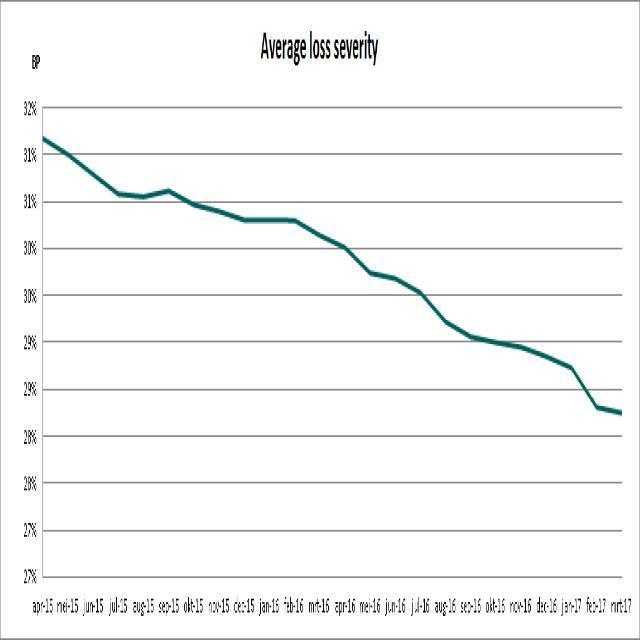axis: (40, 572, 629, 587), (40, 91, 47, 588)
line: (41, 134, 624, 418)
